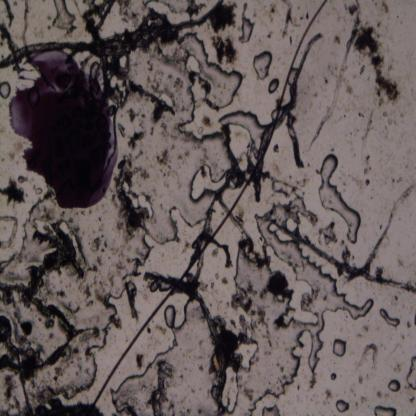Air bubble: (242, 195, 373, 374), (67, 237, 152, 398), (143, 125, 228, 246), (111, 302, 200, 410), (172, 32, 244, 107), (320, 154, 361, 244), (216, 108, 262, 148), (51, 1, 76, 35), (254, 51, 272, 81), (378, 308, 402, 329), (239, 16, 255, 46), (404, 354, 416, 390), (163, 305, 178, 331), (331, 337, 347, 358), (260, 402, 280, 416), (335, 397, 351, 413), (374, 405, 398, 415), (0, 82, 12, 101), (387, 378, 401, 393), (268, 78, 280, 95), (330, 372, 338, 383)
Background material: (84, 2, 236, 43), (0, 363, 102, 415), (114, 126, 151, 242), (356, 25, 401, 108), (234, 280, 272, 341), (81, 225, 116, 272), (146, 64, 181, 104), (224, 309, 246, 371), (0, 173, 29, 209), (120, 274, 140, 324), (361, 107, 383, 151), (213, 35, 239, 66), (155, 150, 176, 180), (266, 270, 286, 300), (126, 131, 144, 154), (149, 106, 167, 128), (382, 108, 397, 133), (362, 152, 372, 188), (342, 2, 361, 17), (211, 274, 230, 288), (134, 351, 145, 372), (318, 388, 333, 402), (277, 310, 286, 332), (308, 369, 318, 388), (270, 141, 282, 156), (380, 0, 390, 18), (127, 104, 136, 123), (138, 170, 155, 180), (372, 386, 386, 397), (198, 117, 212, 128), (32, 184, 43, 197), (332, 34, 341, 46), (356, 372, 364, 385), (357, 395, 368, 404), (146, 325, 154, 336)
Cellulose filter fibre: (0, 3, 223, 70), (0, 0, 224, 66), (280, 225, 416, 296), (153, 275, 227, 404), (192, 126, 240, 283), (308, 16, 361, 150), (348, 185, 414, 285), (0, 284, 77, 365), (286, 32, 323, 170), (26, 222, 86, 304), (218, 195, 252, 243), (278, 0, 297, 39), (356, 340, 379, 372), (0, 214, 19, 251), (20, 1, 30, 46), (3, 0, 14, 31)
Hair: (91, 1, 330, 407)
Pen: (10, 50, 118, 208)
